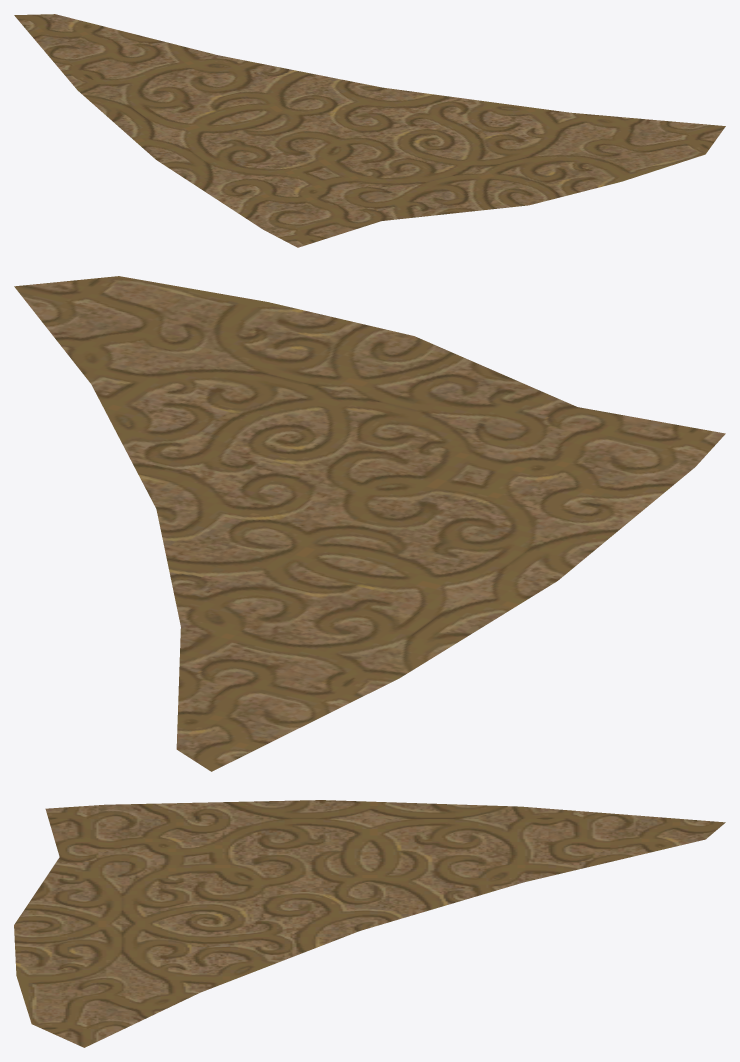
Rendered from EKH_THRONE_PS_TH_LINE25.fbx.
The picture shows the model from 3 angles, top to bottom: view 1: azimuth 30°, elevation 25°; view 2: azimuth 150°, elevation 25°; view 3: azimuth 270°, elevation 25°; orthographic projection. The views are drawn at different scales.
Parts seen in each view (by area): view 1: EKH_THRONE_PS_TH_LINE25; view 2: EKH_THRONE_PS_TH_LINE25; view 3: EKH_THRONE_PS_TH_LINE25.
Part boxes in pixels (<box>): EKH_THRONE_PS_TH_LINE25: <box>14,14,725,247</box>; EKH_THRONE_PS_TH_LINE25: <box>14,276,725,771</box>; EKH_THRONE_PS_TH_LINE25: <box>14,800,725,1047</box>.
Size of the model in its own units: 47265 by 0.0246 by 57360.
1 material, 1 textured.
